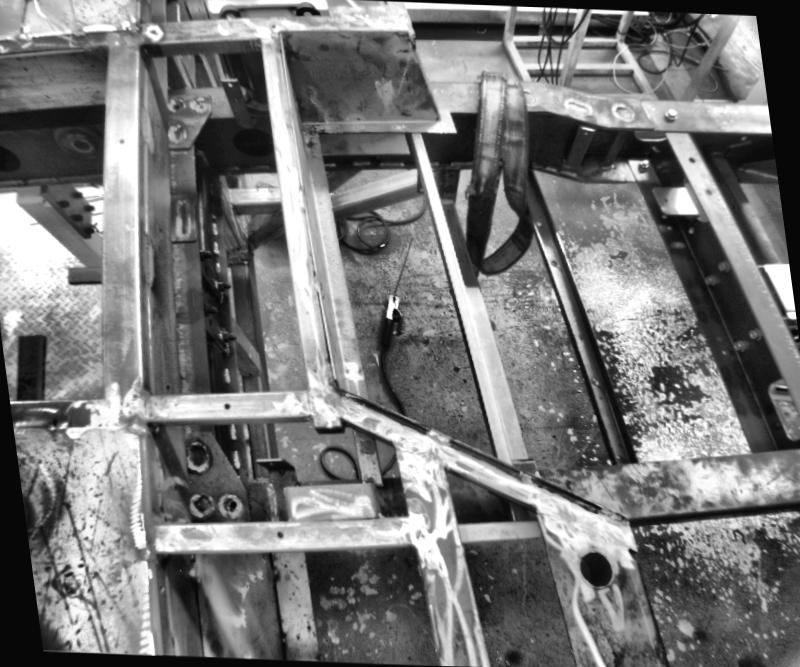bolt: (213, 278, 233, 292), (216, 329, 238, 341), (663, 106, 679, 122), (746, 324, 762, 340), (197, 247, 214, 262), (634, 157, 652, 170), (703, 274, 719, 286), (718, 260, 730, 272), (732, 340, 744, 350)
bracket: (252, 451, 310, 524), (646, 175, 702, 229), (10, 334, 50, 405), (762, 375, 799, 443), (216, 72, 258, 128), (59, 258, 105, 286)
hole: (575, 550, 617, 588), (219, 400, 232, 412), (20, 376, 34, 386), (272, 530, 284, 540), (591, 376, 600, 386), (549, 259, 558, 267), (616, 452, 624, 461), (228, 500, 236, 508), (721, 348, 729, 356), (688, 155, 696, 162), (534, 218, 542, 225), (704, 188, 712, 194), (714, 335, 722, 340), (226, 82, 232, 86), (118, 138, 122, 142), (446, 207, 448, 211)
